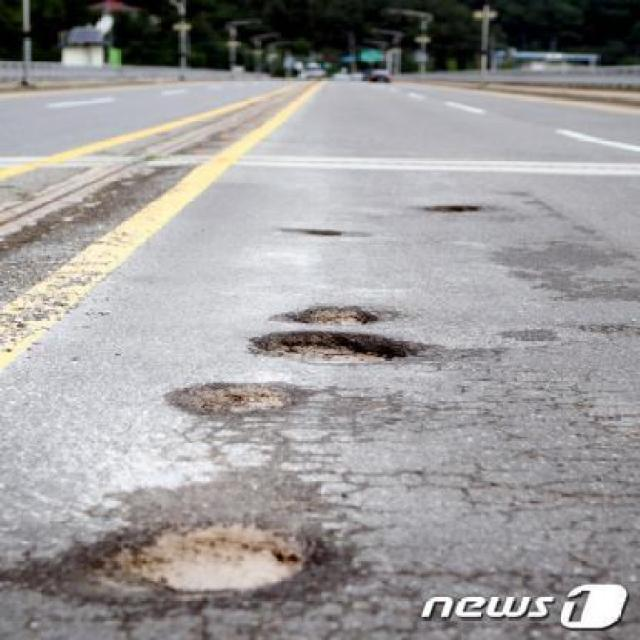Buraco: (0, 516, 372, 623), (246, 328, 446, 368), (162, 378, 321, 421), (263, 302, 405, 327), (422, 202, 486, 215), (298, 227, 347, 238)
